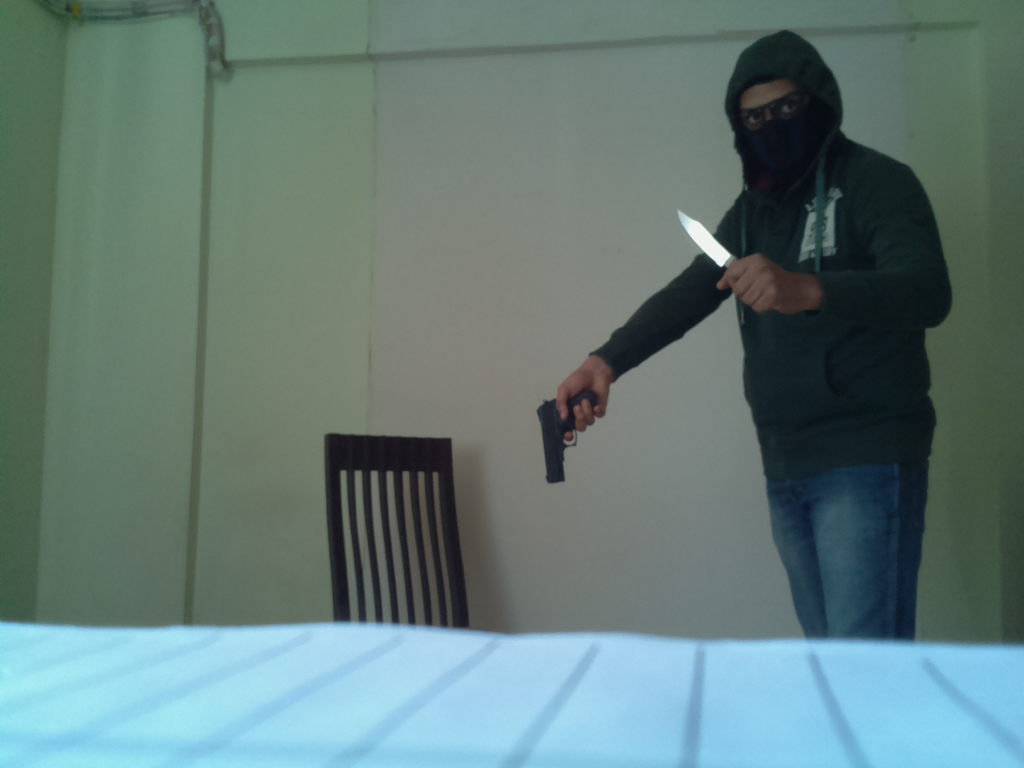gun: (530, 380, 603, 486)
knife: (670, 203, 746, 284)
